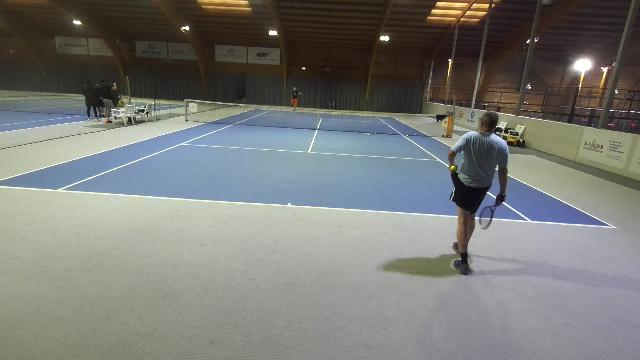tennisball: (448, 164, 458, 174), (372, 132, 378, 136), (366, 132, 369, 138), (364, 132, 368, 136), (388, 132, 392, 136), (405, 134, 409, 138), (298, 93, 302, 96), (442, 138, 448, 140), (413, 134, 417, 136)
